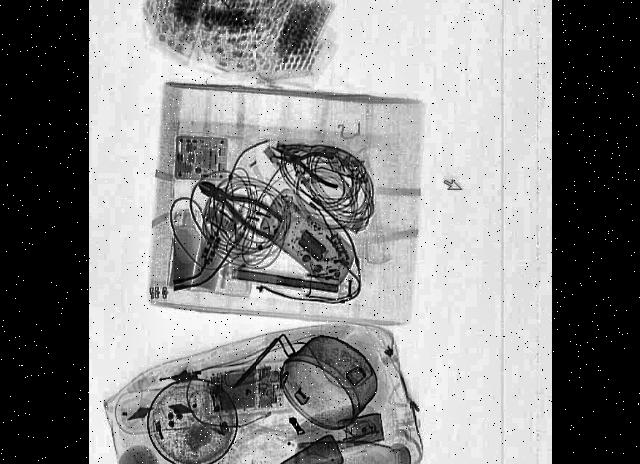Pliers: (194, 169, 284, 247), (268, 136, 342, 192)
